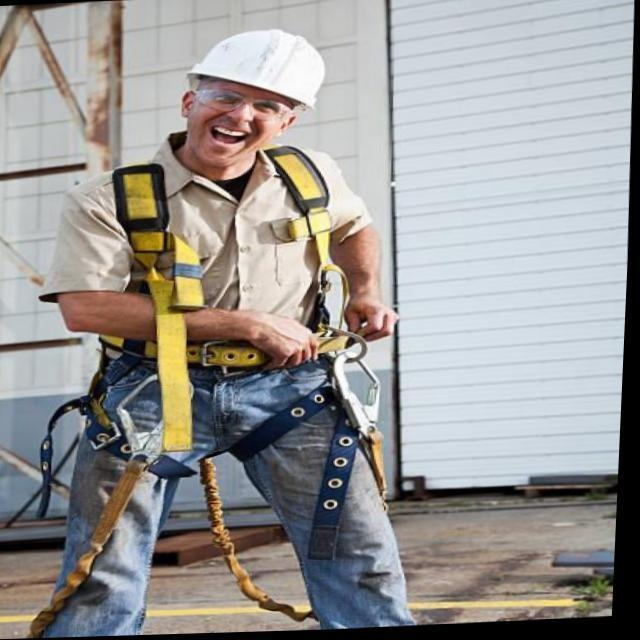Arnes_seguridad: (97, 135, 361, 458)
